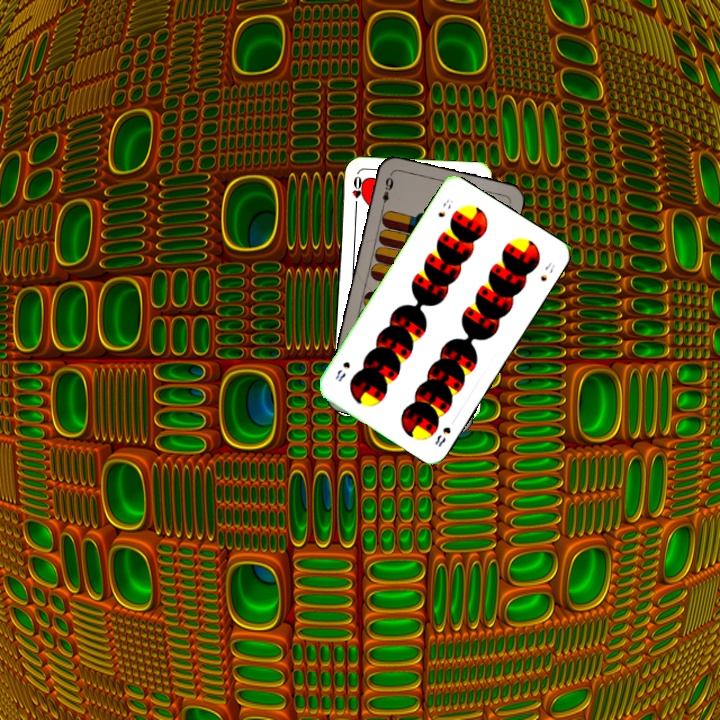E9: (378, 173, 396, 211)
HO: (348, 172, 366, 211)
S8: (431, 423, 454, 449), (434, 195, 456, 220)
